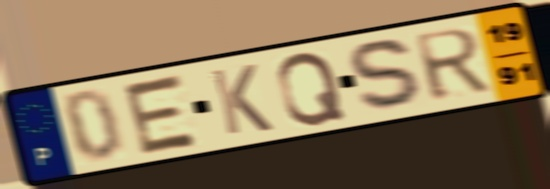0: (62, 86, 126, 165)
E: (120, 71, 203, 158)
K: (207, 62, 277, 138)
Q: (274, 49, 349, 129)
R: (409, 26, 495, 105)
S: (345, 37, 431, 115)
